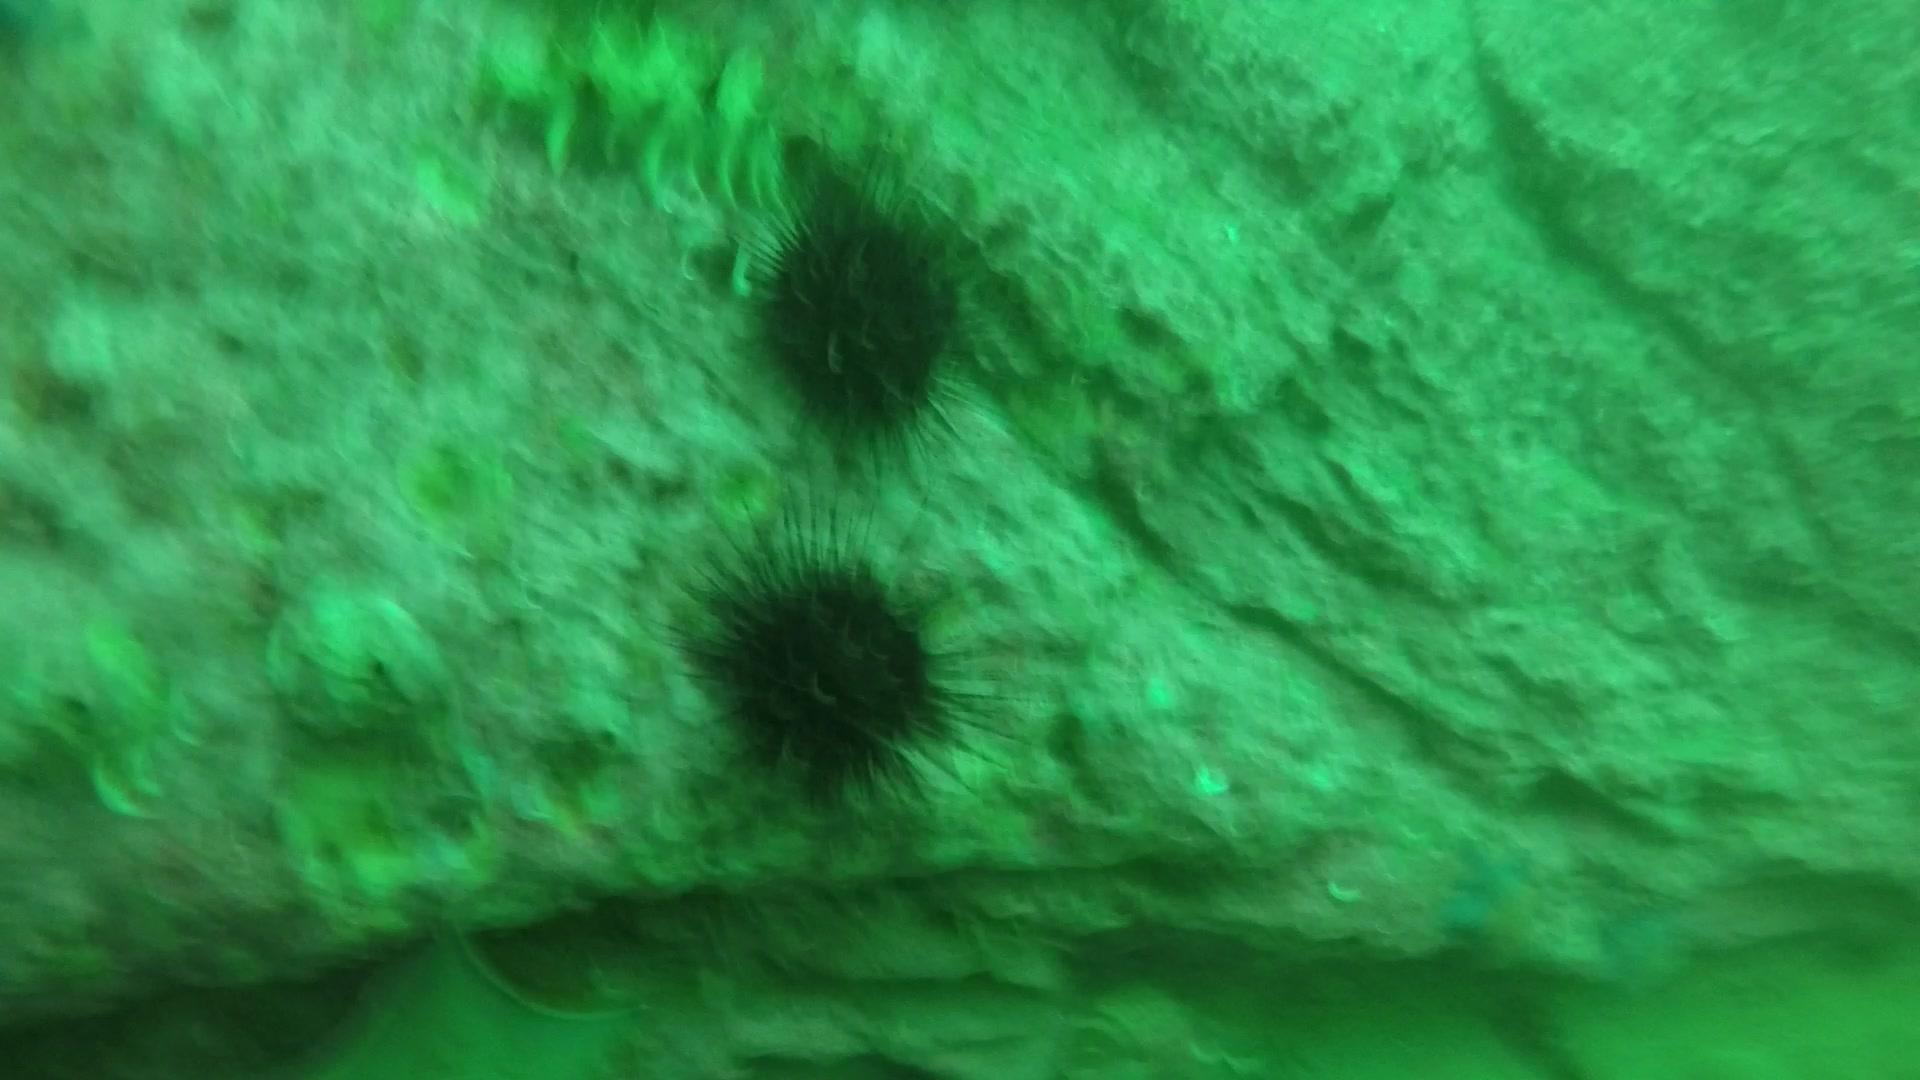urchin: (663, 504, 988, 804), (712, 135, 984, 467)
